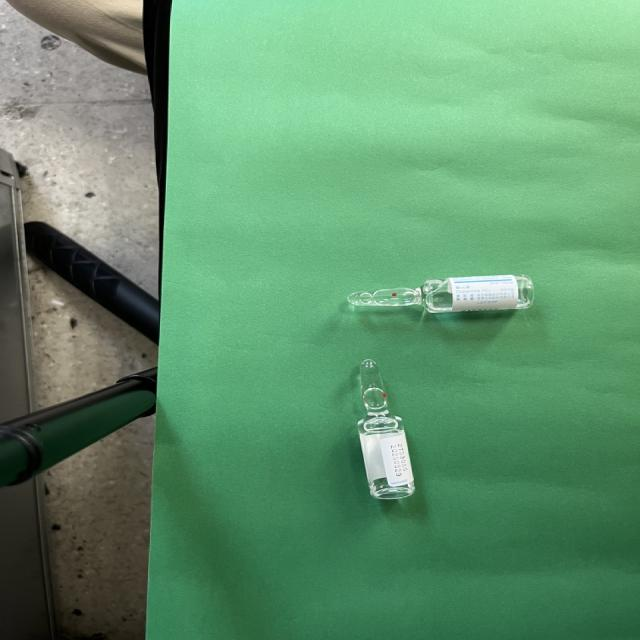Ampoules: (357, 360, 415, 499), (347, 275, 533, 313)
